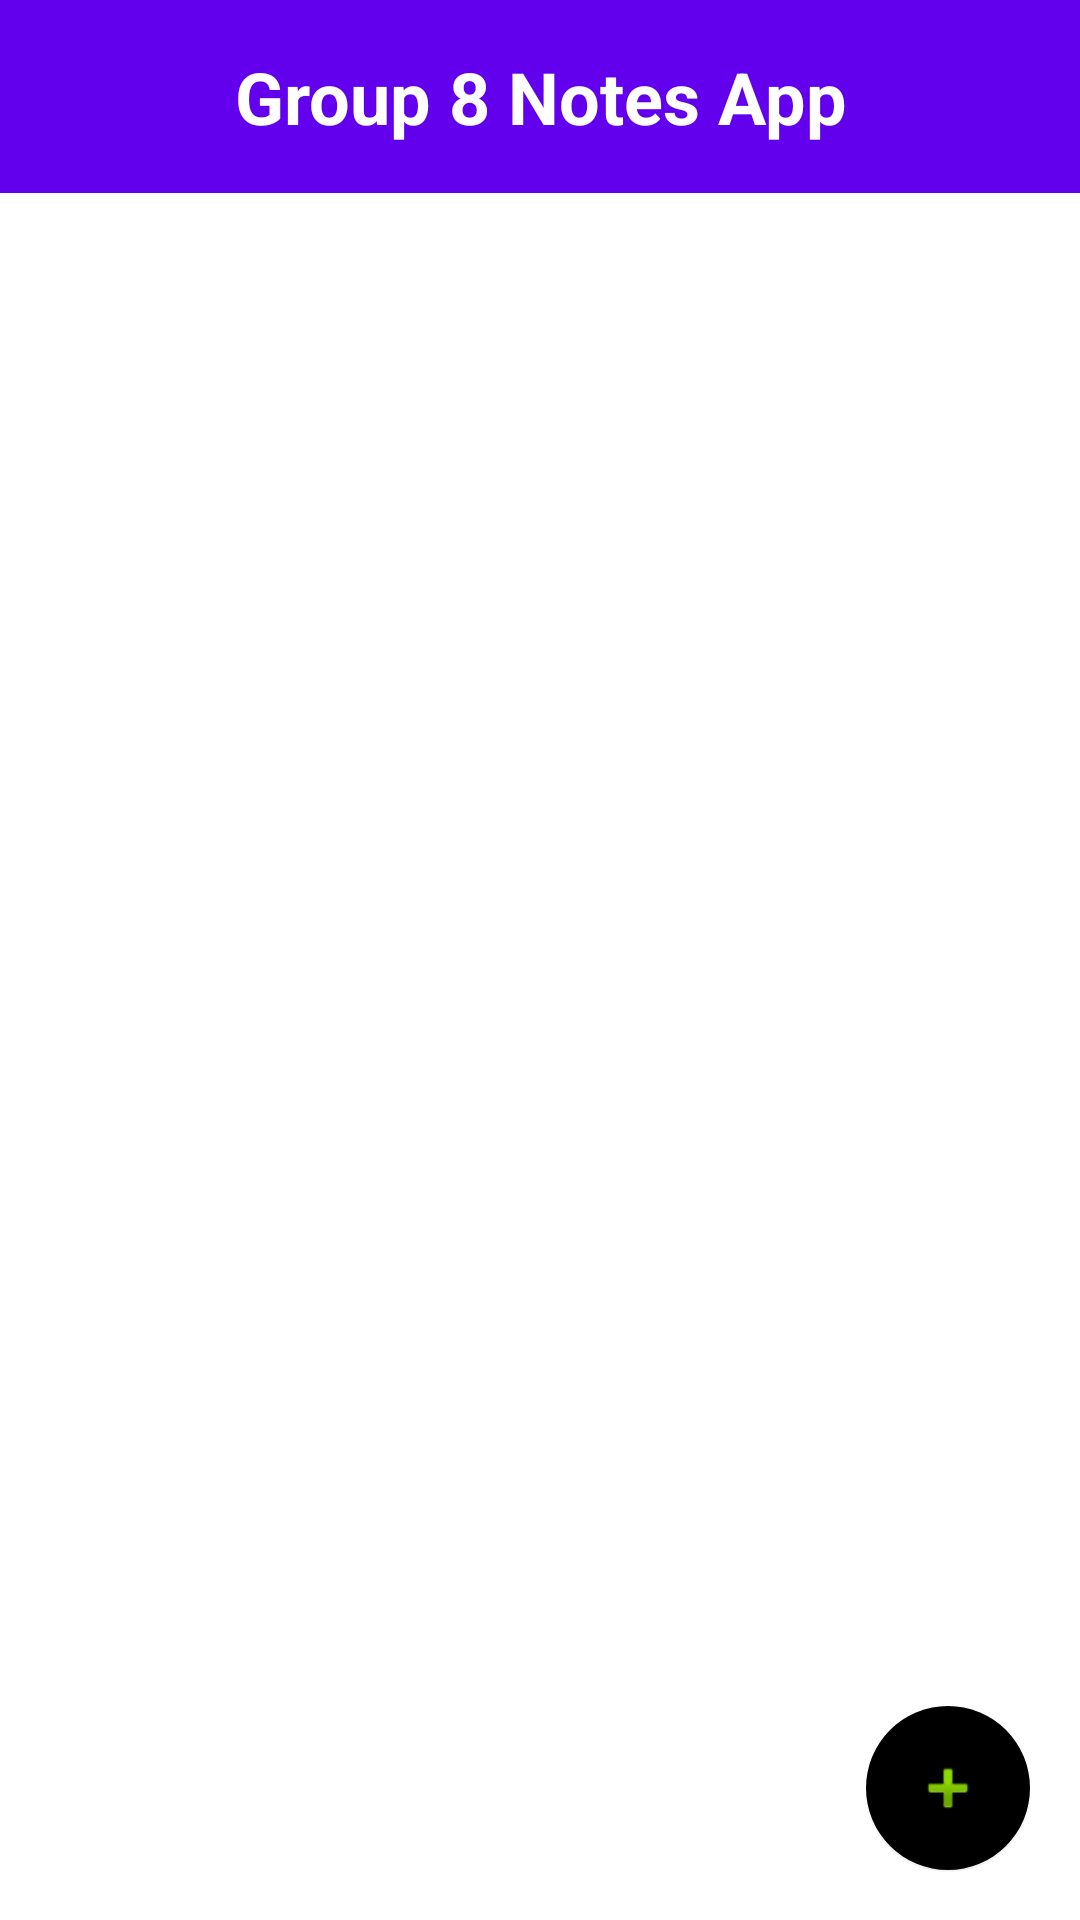

Point at icon controls on the screen. Image size 1080 × 1920, points as (x=x, y=y).
Add Note: (x=948, y=1788)
